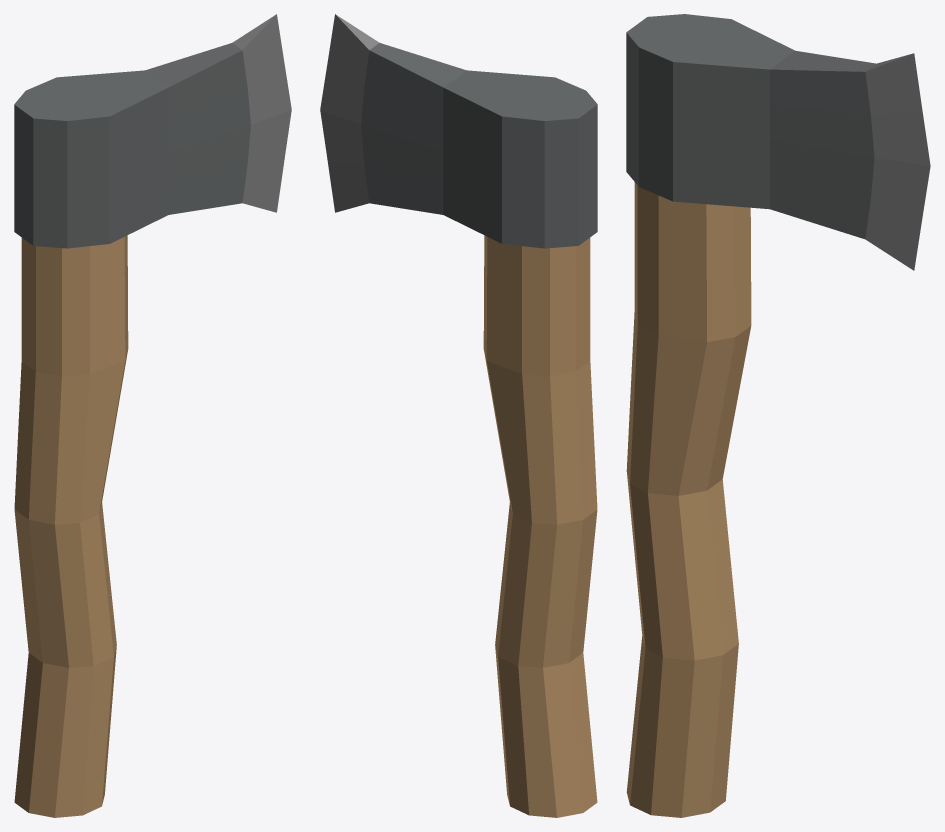
Rendered from baltalow.fbx.
3 renders of one model, left to right at view 1: azimuth 30°, elevation 25°; view 2: azimuth 150°, elevation 25°; view 3: azimuth 330°, elevation 25°, orthographic. The views are drawn at different scales.
Visible parts, largest first — view 1: Cylinder, Cube; view 2: Cylinder, Cube; view 3: Cylinder, Cube.
Boxes of the visible parts, box(x1,y1,x2,y2) form: Cylinder: box(14, 235, 128, 817); Cube: box(14, 14, 291, 248); Cylinder: box(483, 235, 597, 817); Cube: box(320, 14, 597, 248); Cylinder: box(626, 182, 751, 817); Cube: box(626, 14, 930, 270).
Bounding box in the file's own units: 675 × 1747 × 231.
